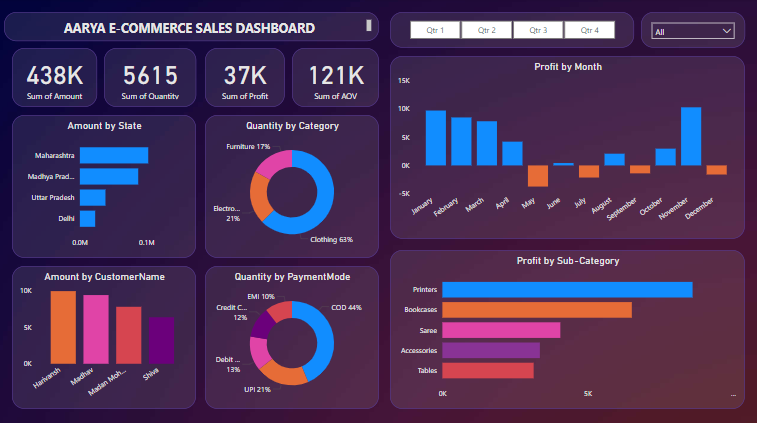

The dashboard page shown, as its layout file describes it:
{"tool":"powerbi","page":{"name":"Page 1","canvas":[1280,720],"ordinal":0},"visuals":[{"type":"textbox","box":[10.1,23.5,629.9,48.7],"z":0},{"type":"columnChart","fields":{"Category":["Orders.Order Date.Variation.Date Hierarchy.Month","Orders.Order Date.Variation.Date Hierarchy.Day"],"Y":["Details.Profit"]},"box":[658.5,97.4,596.3,307.4],"z":1000},{"type":"barChart","fields":{"Category":["Details.Sub-Category"],"Y":["Details.Profit"]},"box":[658.5,423.3,596.3,267.1],"z":2000},{"type":"donutChart","fields":{"Category":["Details.Category"],"Y":["Details.Quantity"]},"box":[347.7,196.5,292.3,240.2],"z":3000},{"type":"donutChart","fields":{"Category":["Details.PaymentMode"],"Y":["Details.Quantity"]},"box":[347.7,450.2,292.3,240.2],"z":4000},{"type":"card","fields":{"Values":["Details.Amount"]},"box":[23.5,84,142.8,99.1],"z":5000},{"type":"card","fields":{"Values":["Details.Quantity"]},"box":[178.1,84,154.5,99.1],"z":6000},{"type":"card","fields":{"Values":["Details.Profit"]},"box":[347.7,84,134.4,99.1],"z":7000},{"type":"card","fields":{"Values":["Details.AOV"]},"box":[493.9,84,146.1,99.1],"z":8000},{"type":"barChart","fields":{"Y":["Details.Amount"],"Category":["Orders.State"]},"box":[23.5,196.5,309.1,240.2],"z":9000},{"type":"columnChart","fields":{"Category":["Orders.CustomerName"],"Y":["Details.Amount"]},"box":[23.5,450.2,309.1,240.2],"z":10000},{"type":"slicer","fields":{"Values":["Orders.Order Date.Variation.Date Hierarchy.Quarter"]},"box":[658.5,23.5,409.9,60.5],"z":11000},{"type":"slicer","fields":{"Values":["Orders.State"]},"box":[1080.1,23.5,174.7,60.5],"z":12000}]}

Visuals, with their boxes in screenshot pixels (x1, y1, x2, y2), scaled from the page's 1280x720 canvas onto the 757x423 screenshot:
textbox: box=[6, 14, 378, 42]
columnChart - Orders.Order Date.Variation.Date Hierarchy.Month x Orders.Order Date.Variation.Date Hierarchy.Day: box=[389, 57, 742, 238]
barChart - Details.Sub-Category x Details.Profit: box=[389, 249, 742, 406]
donutChart - Details.Category x Details.Quantity: box=[206, 115, 378, 257]
donutChart - Details.PaymentMode x Details.Quantity: box=[206, 264, 378, 406]
card - Details.Amount: box=[14, 49, 98, 108]
card - Details.Quantity: box=[105, 49, 197, 108]
card - Details.Profit: box=[206, 49, 285, 108]
card - Details.AOV: box=[292, 49, 378, 108]
barChart - Details.Amount x Orders.State: box=[14, 115, 197, 257]
columnChart - Orders.CustomerName x Details.Amount: box=[14, 264, 197, 406]
slicer - Orders.Order Date.Variation.Date Hierarchy.Quarter: box=[389, 14, 632, 49]
slicer - Orders.State: box=[639, 14, 742, 49]
